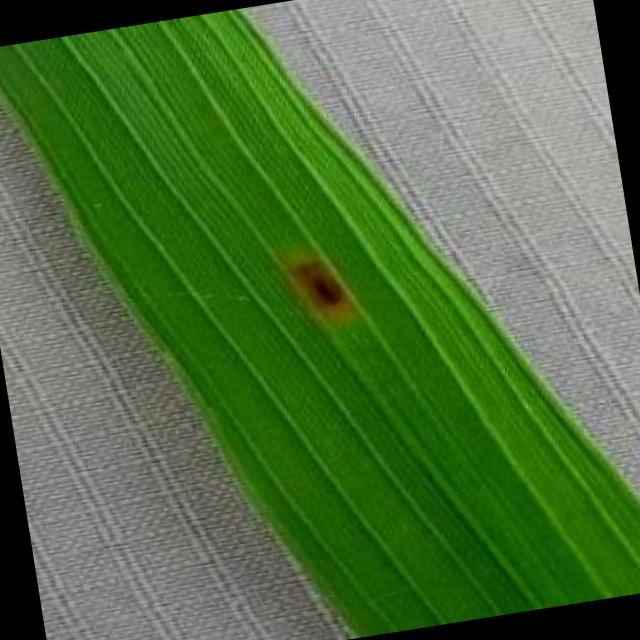Rice_Brownspot: (264, 223, 370, 339)
